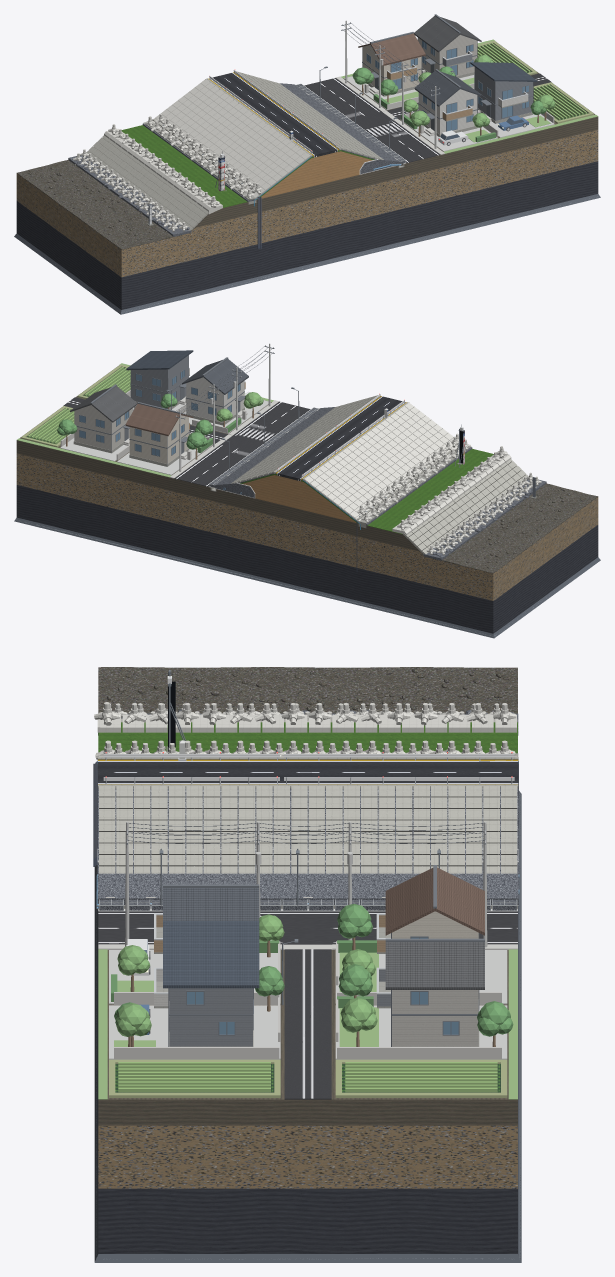
Rendered from river_levee_viewer.glb.
3 views of the same model, one above another, from view 1: azimuth 30°, elevation 25°; view 2: azimuth 150°, elevation 25°; view 3: azimuth 270°, elevation 25° (orthographic). The views are drawn at different scales.
Visible parts, largest first — view 1: ground_impermeable, ground_gravel, measure_erosion__revetment_blocks, river_bed_gravel, ground_clay__soil, measure_erosion__armor_blocks, inland_town__main_road, measure_erosion__low_water_revetment, cutaway_frame__base, measure_overtop__crest_armor, measure_overtop__slope_blocks, levee_core_front__embankment (+31 smaller); view 2: ground_impermeable, ground_gravel, measure_erosion__revetment_blocks, ground_clay__soil, river_bed_gravel, measure_erosion__armor_blocks, inland_town__main_road, measure_erosion__low_water_revetment, cutaway_frame__base, measure_overtop__crest_armor, measure_overtop__slope_blocks, levee_static_back__embankment (+30 smaller); view 3: measure_overtop__slope_blocks, ground_impermeable, ground_gravel, river_bed_gravel, ground_clay__soil, measure_overtop__crest_armor, inland_town__paddy_rice, measure_erosion__armor_blocks, measure_seepage__gravel_drain, cutaway_frame__base, inland_town__alley_road, inland_houses__roof_slate_navy (+27 smaller).
Part boxes in pixels (<box>): ground_impermeable: <box>16,161,598,309</box>; ground_gravel: <box>16,130,598,277</box>; measure_erosion__revetment_blocks: <box>152,79,310,197</box>; river_bed_gravel: <box>17,160,194,249</box>; ground_clay__soil: <box>255,42,598,213</box>; measure_erosion__armor_blocks: <box>73,113,261,231</box>; inland_town__main_road: <box>304,78,440,163</box>; measure_erosion__low_water_revetment: <box>86,135,208,230</box>; cutaway_frame__base: <box>14,194,600,314</box>; measure_overtop__crest_armor: <box>208,72,339,156</box>; measure_overtop__slope_blocks: <box>236,71,383,159</box>; levee_core_front__embankment: <box>261,151,372,198</box>; ground_impermeable: <box>16,485,598,633</box>; ground_gravel: <box>16,453,598,600</box>; measure_erosion__revetment_blocks: <box>304,403,457,521</box>; ground_clay__soil: <box>16,366,419,551</box>; river_bed_gravel: <box>403,483,598,573</box>; measure_erosion__armor_blocks: <box>356,433,541,555</box>; inland_town__main_road: <box>174,401,310,486</box>; measure_erosion__low_water_revetment: <box>403,459,528,554</box>; cutaway_frame__base: <box>14,517,600,638</box>; measure_overtop__crest_armor: <box>275,396,406,479</box>; measure_overtop__slope_blocks: <box>231,395,378,483</box>; levee_static_back__embankment: <box>243,475,356,522</box>; measure_overtop__slope_blocks: <box>99,786,517,873</box>; ground_impermeable: <box>98,1188,517,1253</box>; ground_gravel: <box>98,1125,517,1188</box>; river_bed_gravel: <box>98,667,517,713</box>; ground_clay__soil: <box>98,950,517,1125</box>; measure_overtop__crest_armor: <box>98,759,518,784</box>; inland_town__paddy_rice: <box>118,1062,497,1092</box>; measure_erosion__armor_blocks: <box>94,702,516,759</box>; measure_seepage__gravel_drain: <box>97,863,518,904</box>; cutaway_frame__base: <box>94,791,521,1262</box>; inland_town__alley_road: <box>284,949,331,1099</box>; inland_houses__roof_slate_navy: <box>163,921,259,988</box>.
Bounding box in the file's own units: 84.6 × 24.2 × 32.7.
Materials: 69 (31 with a texture image).
